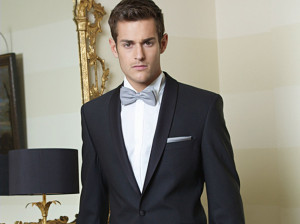bow: (116, 82, 159, 108)
